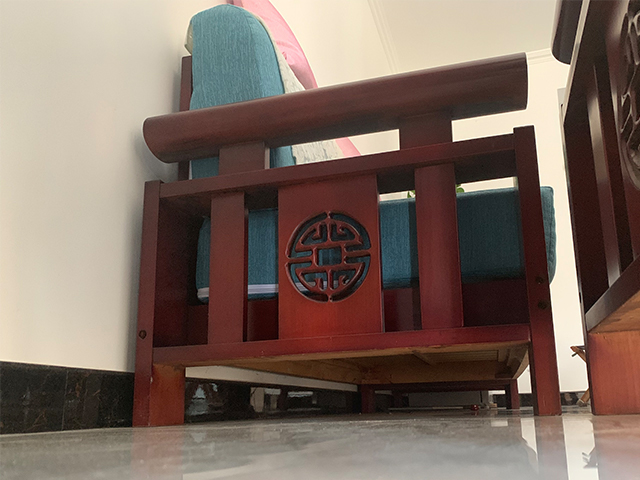sofa: (130, 1, 563, 426)
